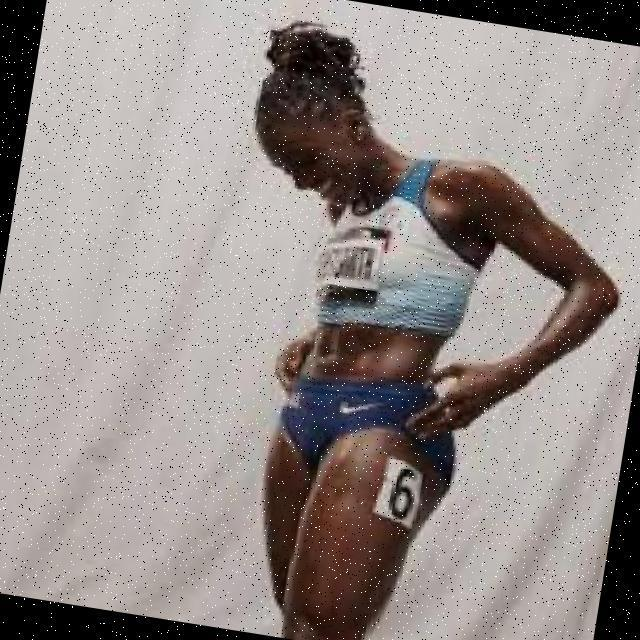Nike: (333, 388, 387, 419)
